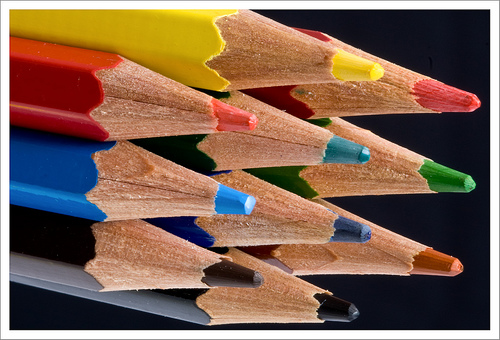pen_tip: (71, 44, 260, 154)
